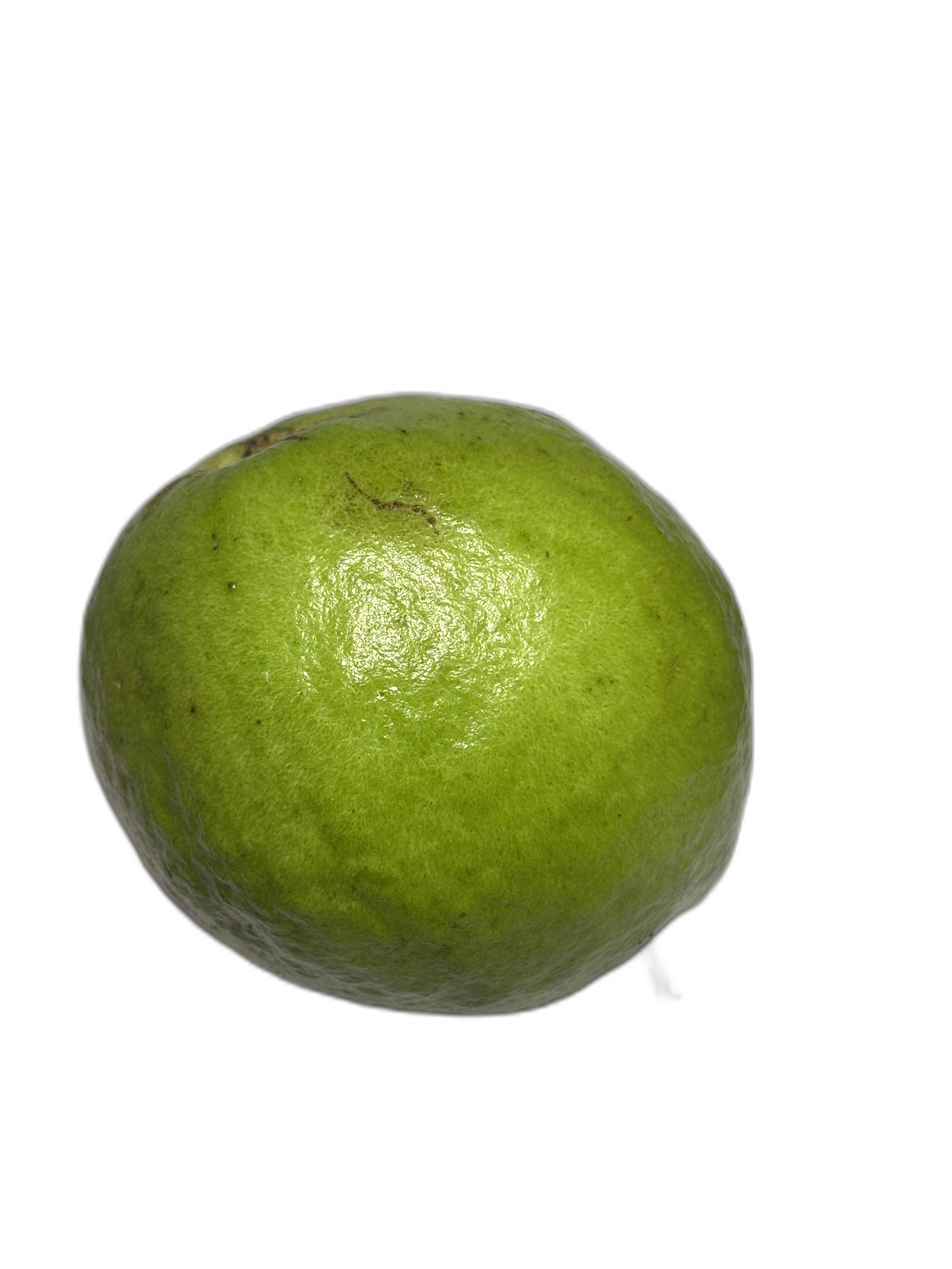guava: (68, 267, 850, 1036)
